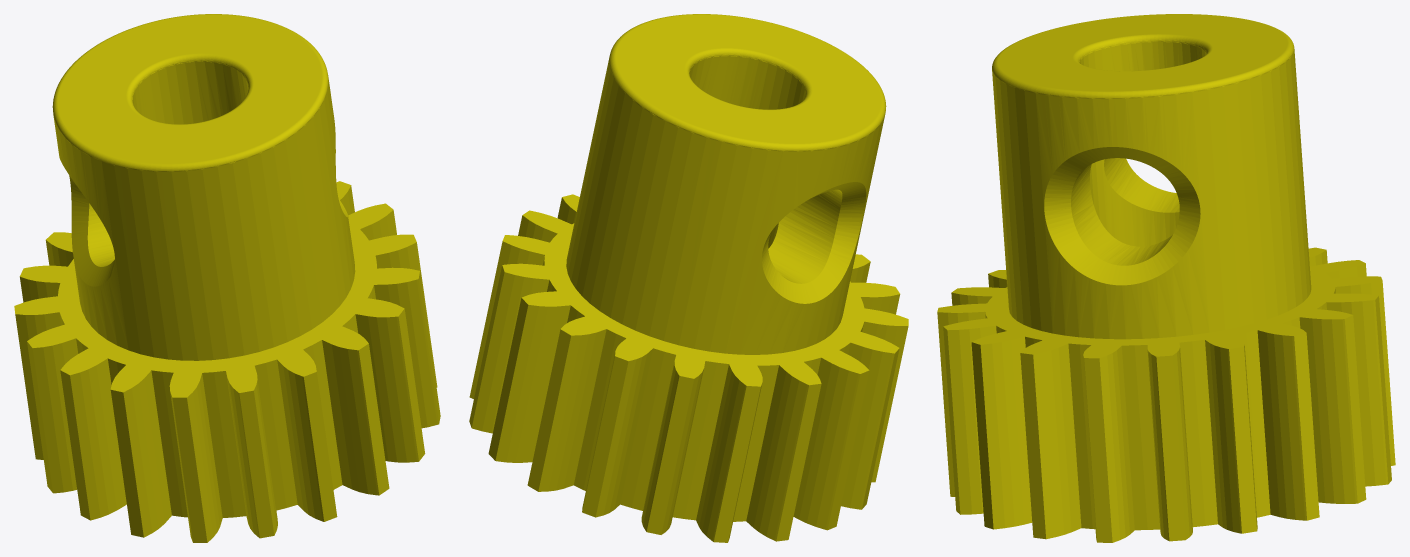
File: PinionGear.glb
3 views of the same model, side by side, from view 1: azimuth 30°, elevation 25°; view 2: azimuth 150°, elevation 25°; view 3: azimuth 270°, elevation 25° (orthographic). The views are drawn at different scales.
Visible parts, largest first — view 1: defaultobject; view 2: defaultobject; view 3: defaultobject.
Part boxes in pixels (box(x1,y1,x2,y2)): defaultobject: box(14, 14, 440, 542); defaultobject: box(469, 14, 908, 542); defaultobject: box(937, 14, 1395, 542).
Size of the model in its own units: 36.85 by 39.62 by 35.75.
